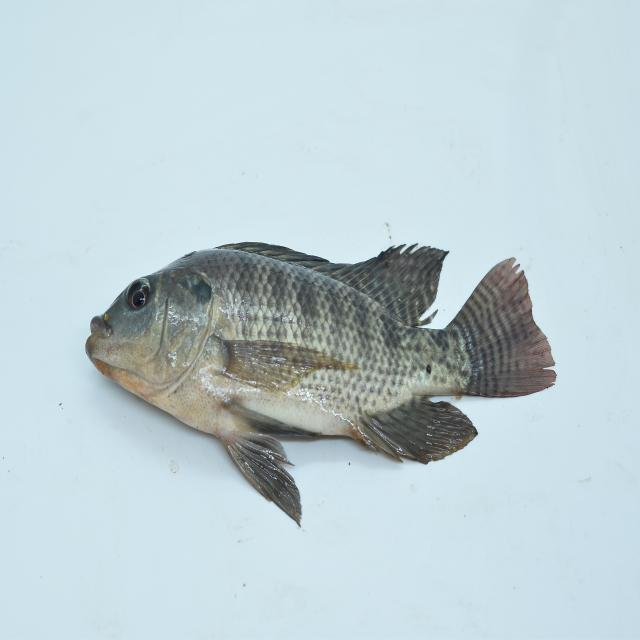Healthy Fish: (83, 240, 559, 526)
